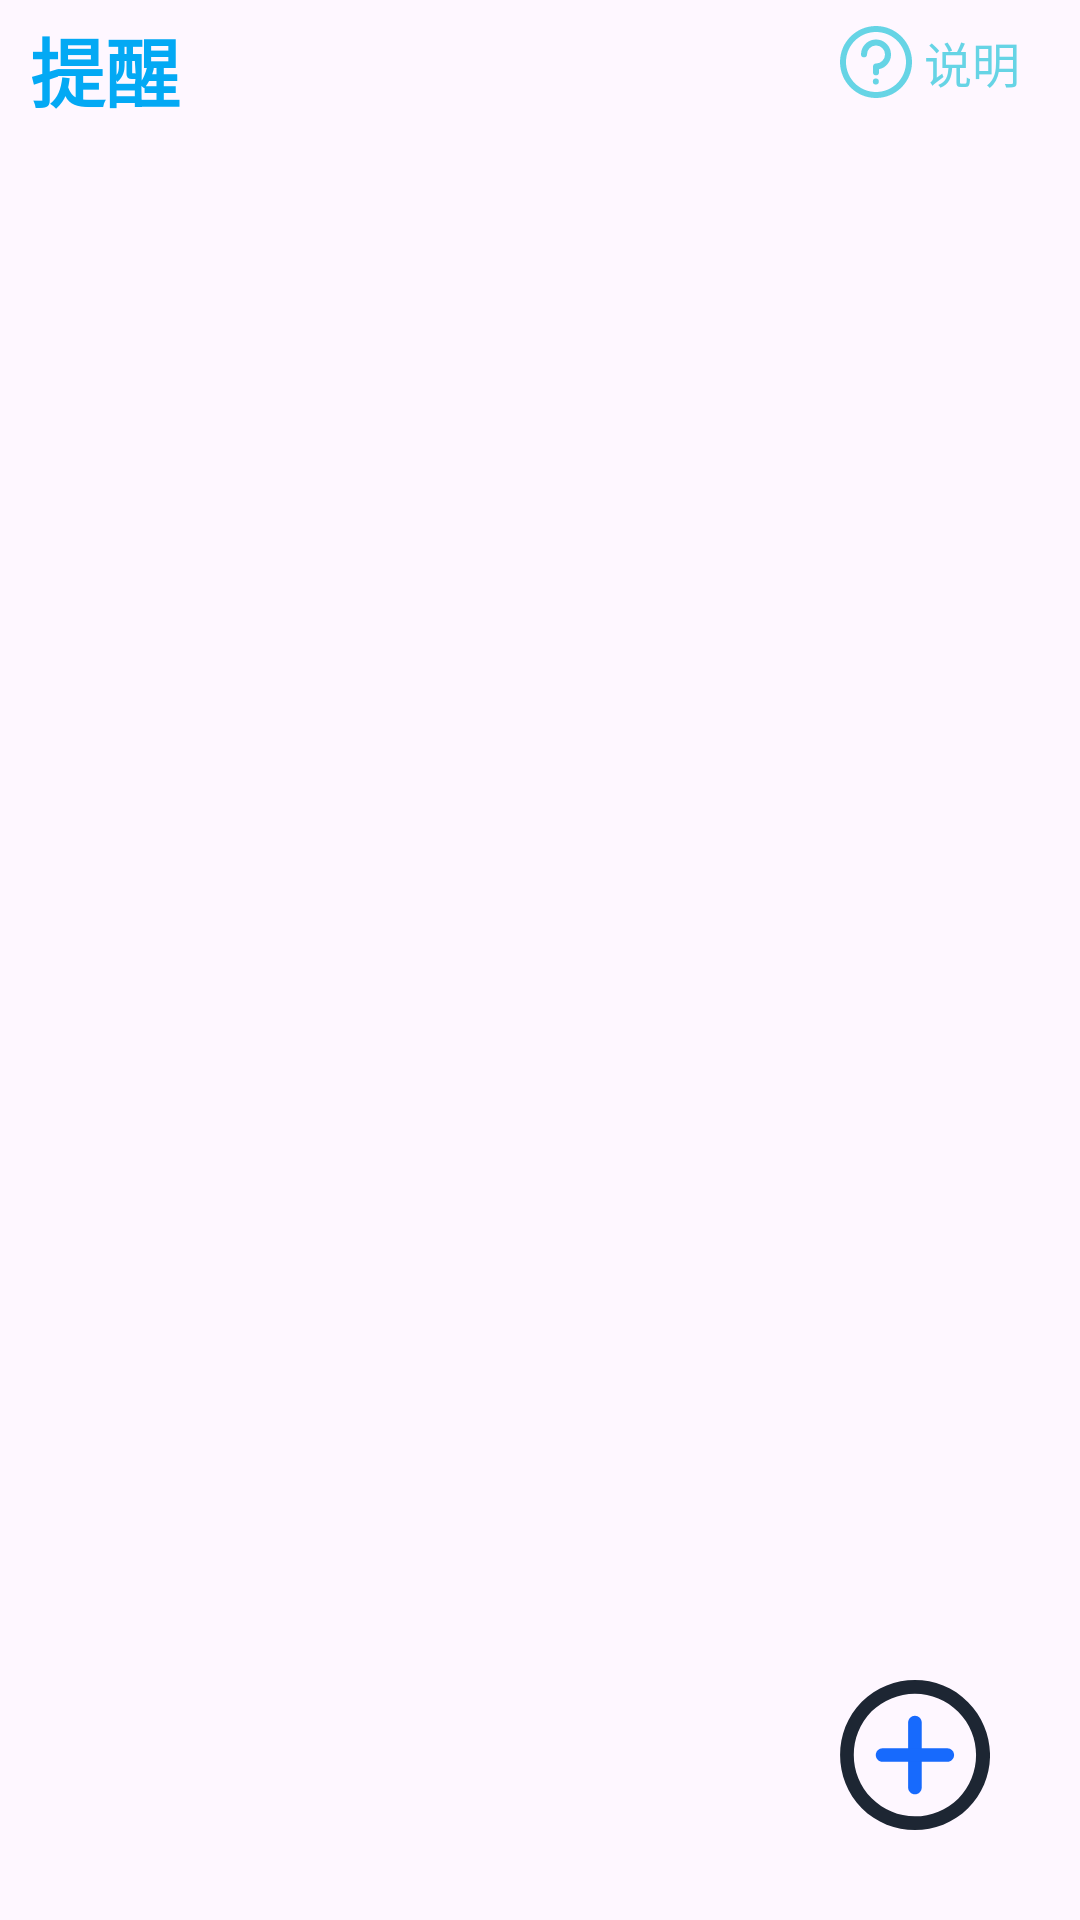

Screen size 1080px×1920px. Icon name, then its box in pixels as box=[x1, y1, x2, y2]:
add: box=[840, 1680, 990, 1830]
